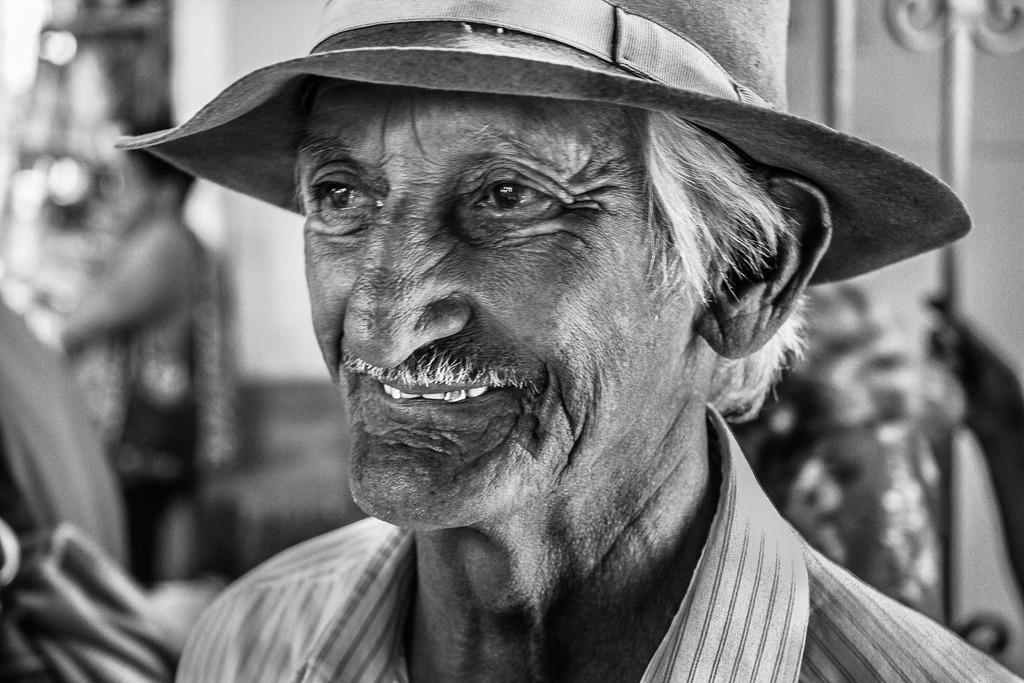Hat: (116, 0, 974, 287)
